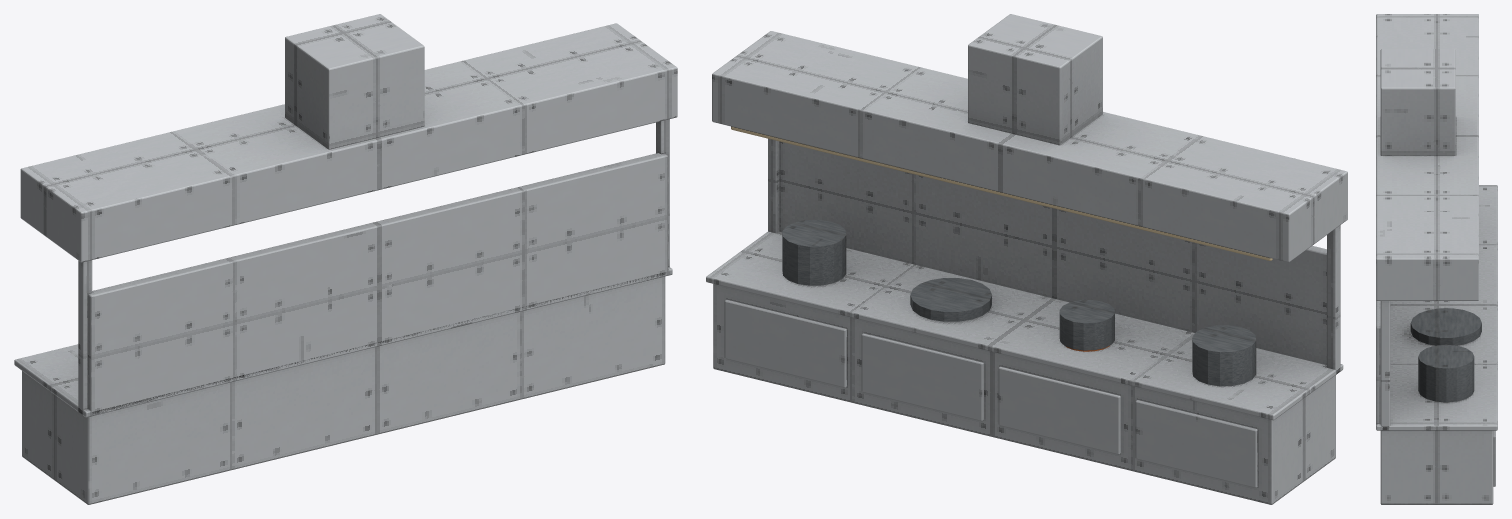
The model's file is base_kitchen_range.glb.
The picture shows the model from 3 angles, left to right: view 1: azimuth 30°, elevation 25°; view 2: azimuth 150°, elevation 25°; view 3: azimuth 270°, elevation 25°; orthographic projection. The views are drawn at different scales.
Parts seen in each view (by area): view 1: base_kitchen_range; view 2: base_kitchen_range; view 3: base_kitchen_range.
Part boxes in pixels (bbox=[...]): base_kitchen_range: bbox=[14, 14, 677, 504]; base_kitchen_range: bbox=[706, 14, 1347, 504]; base_kitchen_range: bbox=[1376, 14, 1497, 504].
Size of the model in its own units: 6.2 by 3.75 by 1.3.
Materials: 4 (4 with a texture image).
